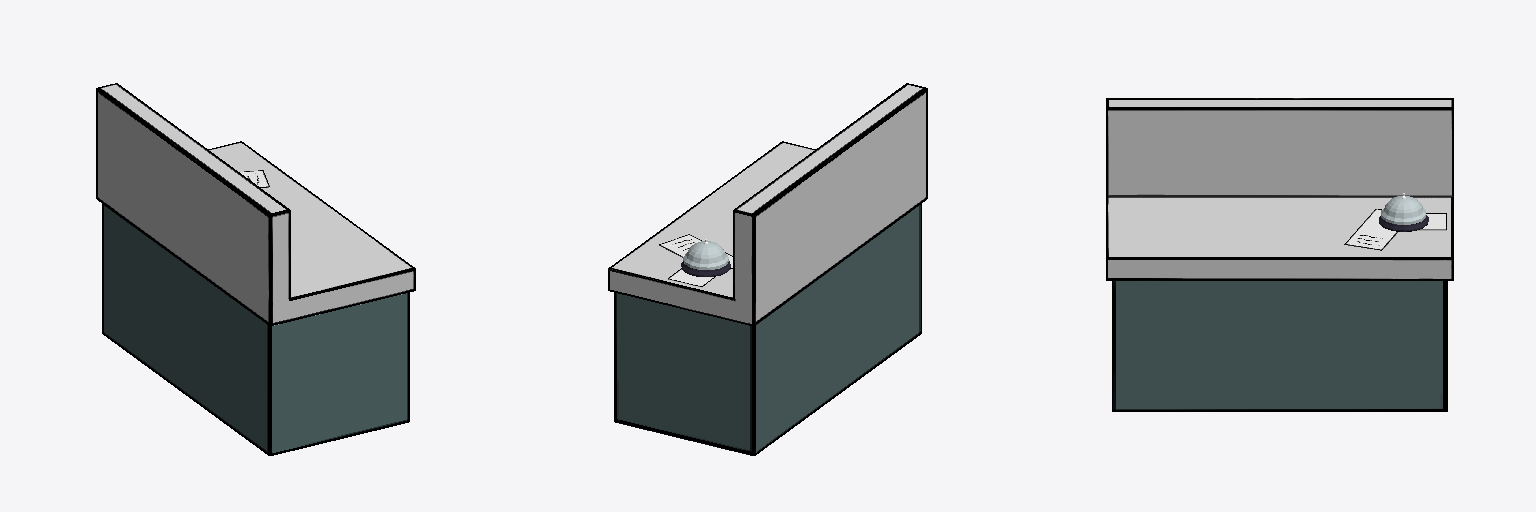
3 renders of one model, left to right at view 1: azimuth 30°, elevation 25°; view 2: azimuth 150°, elevation 25°; view 3: azimuth 270°, elevation 25°, orthographic.
Parts seen in each view (by area): view 1: pCube1_initialShadingGroup, pCube2_initialShadingGroup; view 2: pCube1_initialShadingGroup, pCube2_initialShadingGroup, pSphere1_initialShadingGroup; view 3: pCube2_initialShadingGroup, pCube1_initialShadingGroup, pCube3_initialShadingGroup, pSphere1_initialShadingGroup.
Part boxes in pixels (x1,y1,x2,y2): pCube1_initialShadingGroup: (102,204,409,455); pCube2_initialShadingGroup: (96,83,415,325); pCube1_initialShadingGroup: (614,204,921,455); pCube2_initialShadingGroup: (608,83,927,325); pSphere1_initialShadingGroup: (683,241,728,269); pCube2_initialShadingGroup: (1106,98,1453,280); pCube1_initialShadingGroup: (1112,281,1447,411); pCube3_initialShadingGroup: (1344,209,1397,250); pSphere1_initialShadingGroup: (1381,196,1425,224).
Size of the model in its own units: 16.52 by 26.49 by 34.18.
Materials: 1 (1 with a texture image).